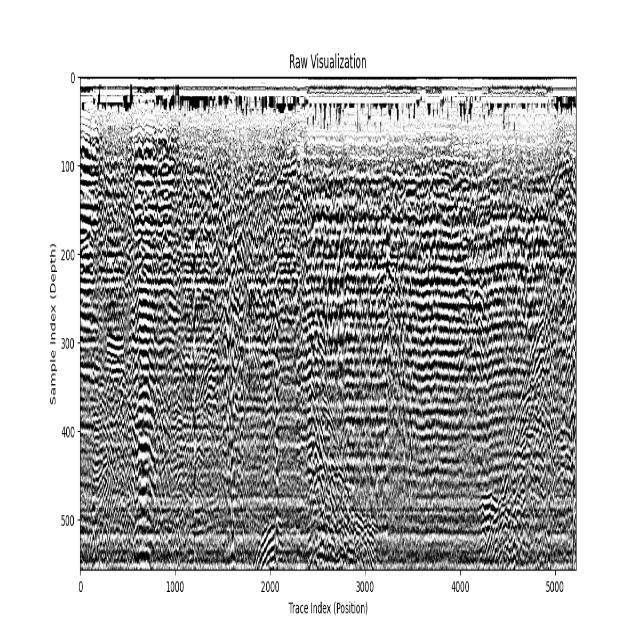anomaly: (482, 220, 576, 571), (246, 477, 384, 570), (134, 142, 155, 566), (218, 200, 240, 565), (255, 516, 278, 568)
